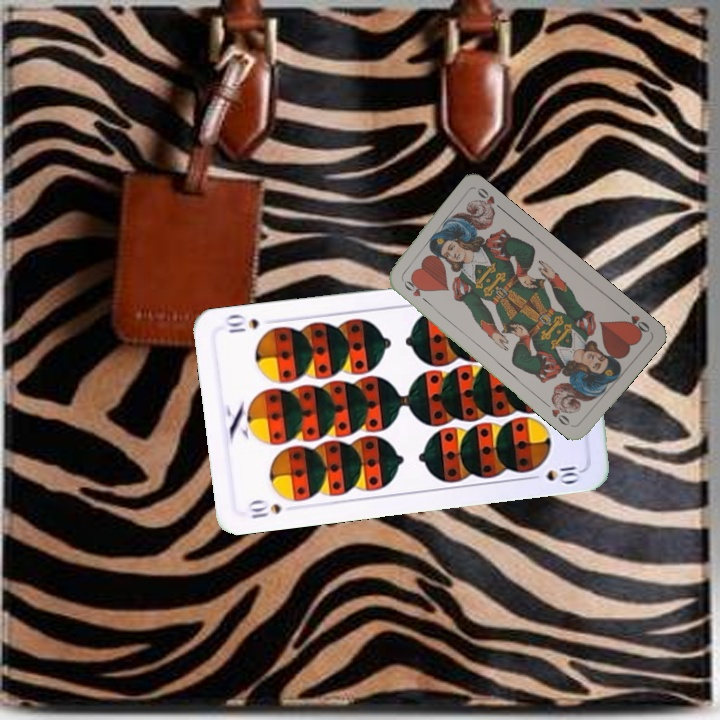HO: (619, 305, 652, 337), (398, 275, 432, 306)
S10: (244, 496, 284, 521)
